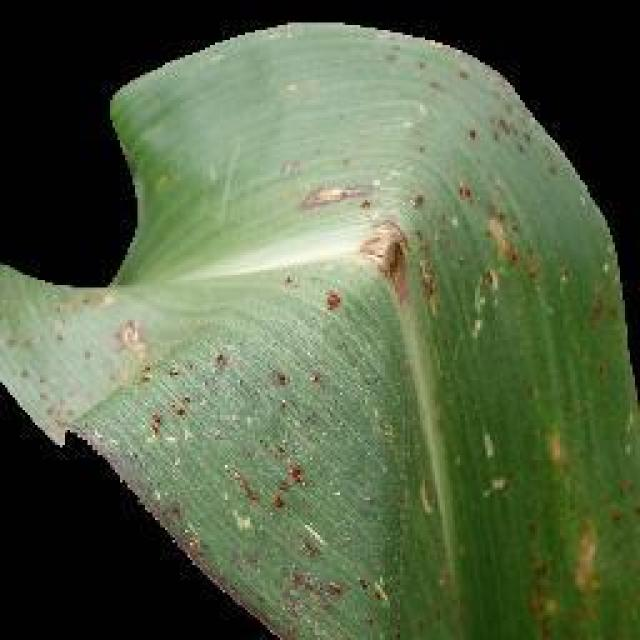Corn Common Rust: (210, 253, 592, 552)
